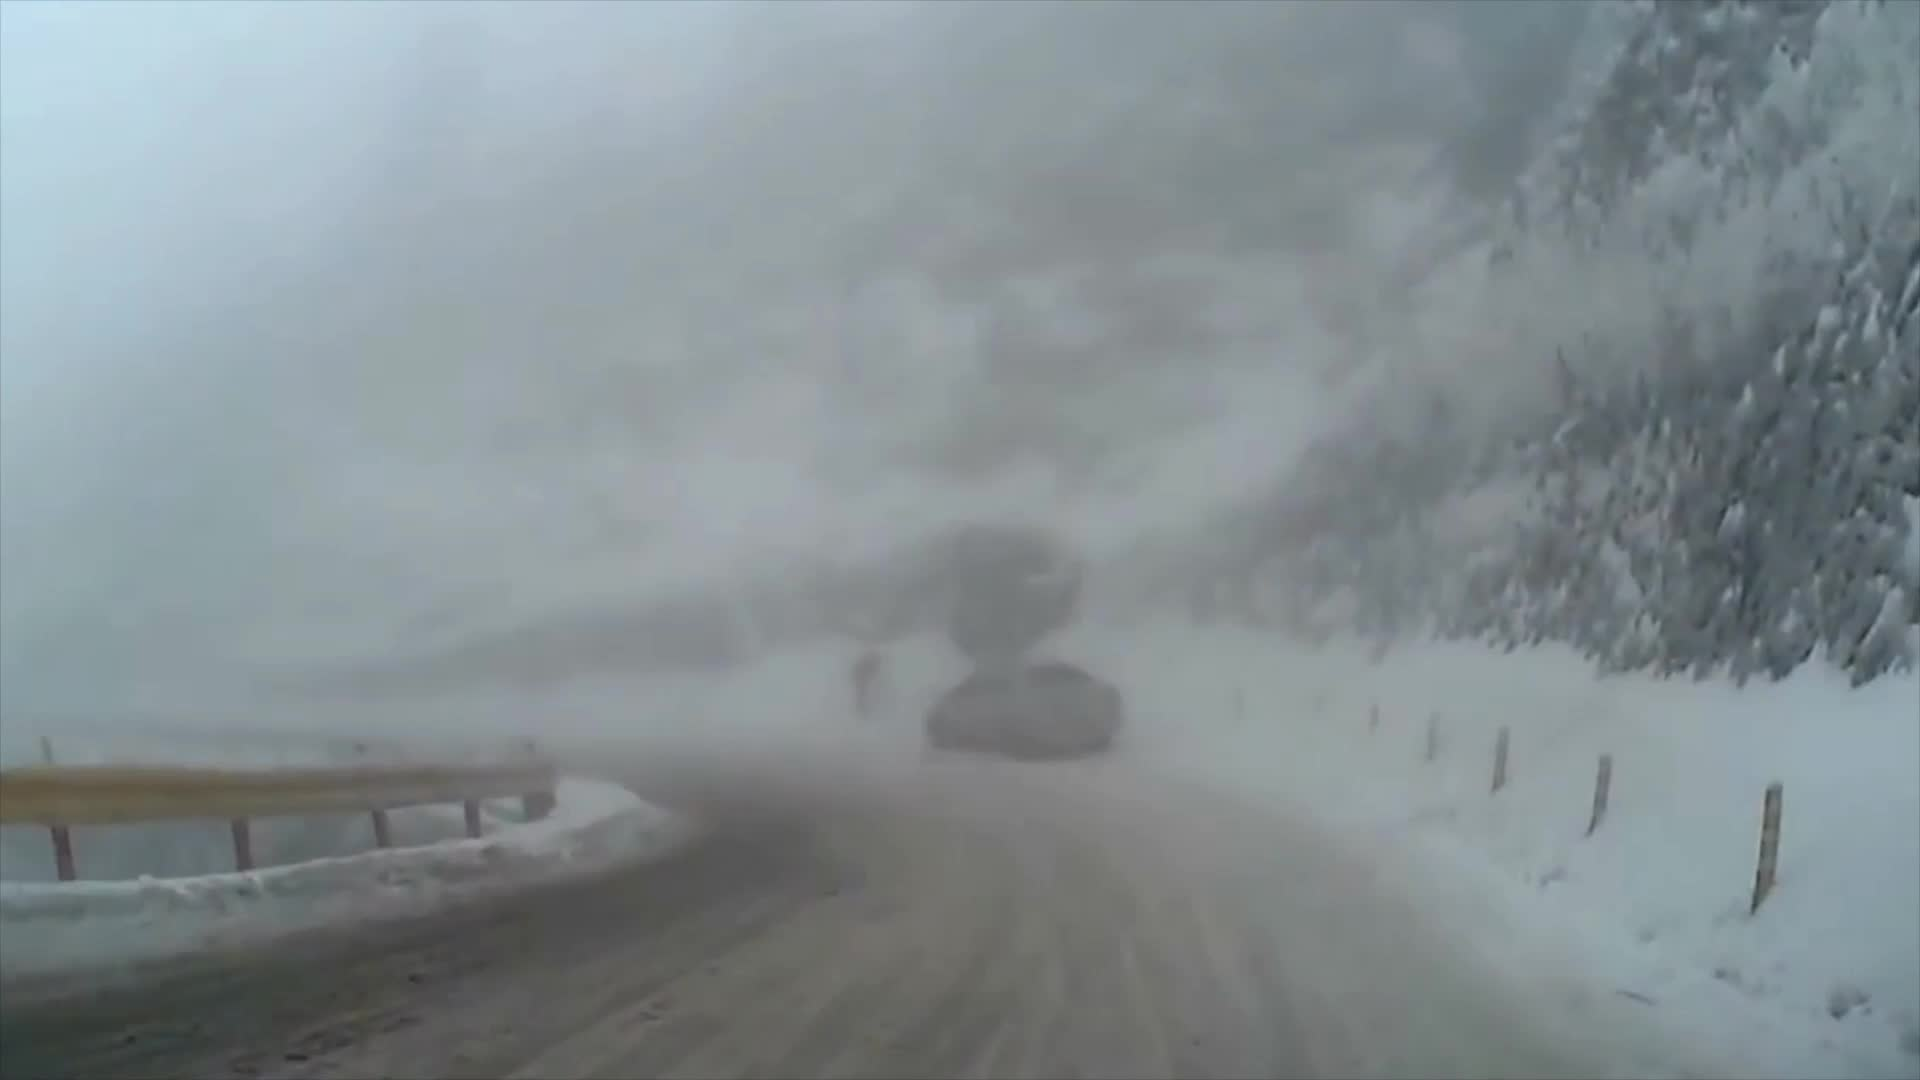pedestrian: (854, 651, 896, 719)
vehicle: (926, 658, 1123, 753)
